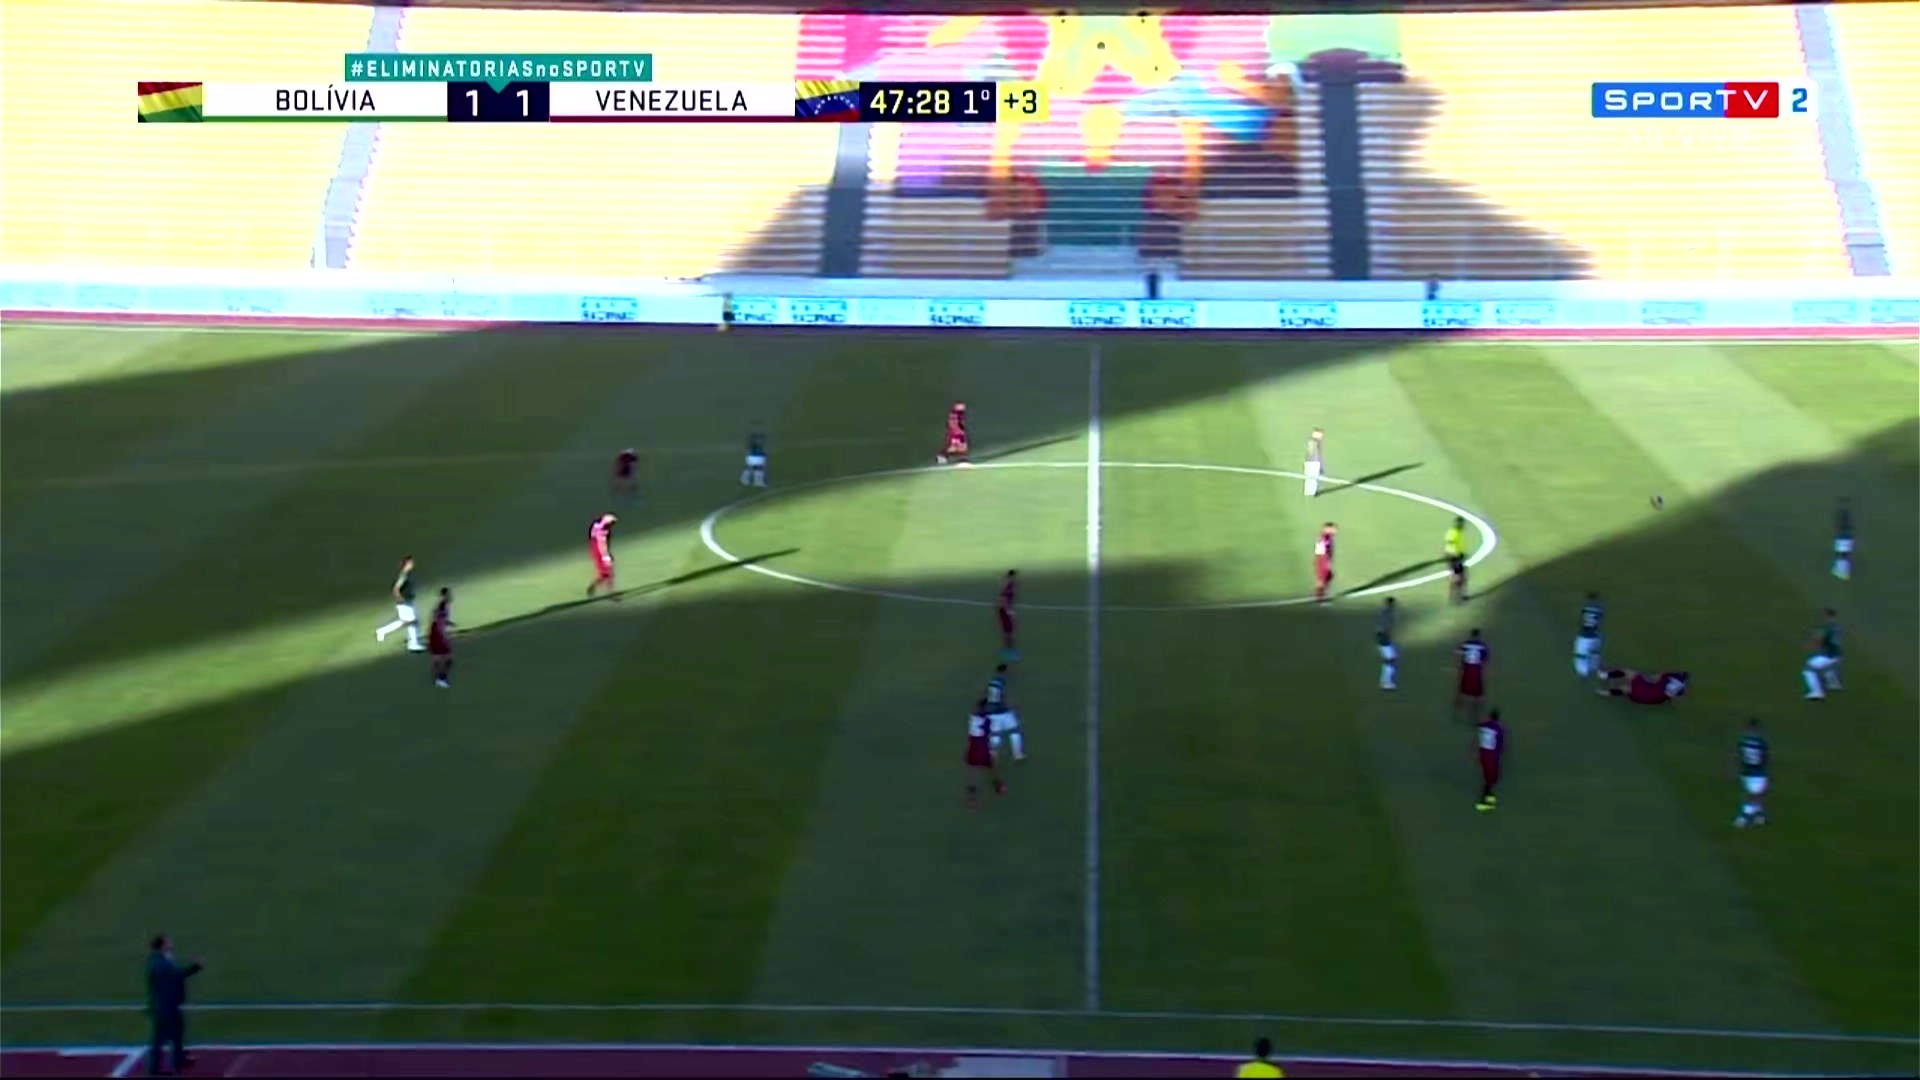sportv2: (1589, 79, 1822, 117)
